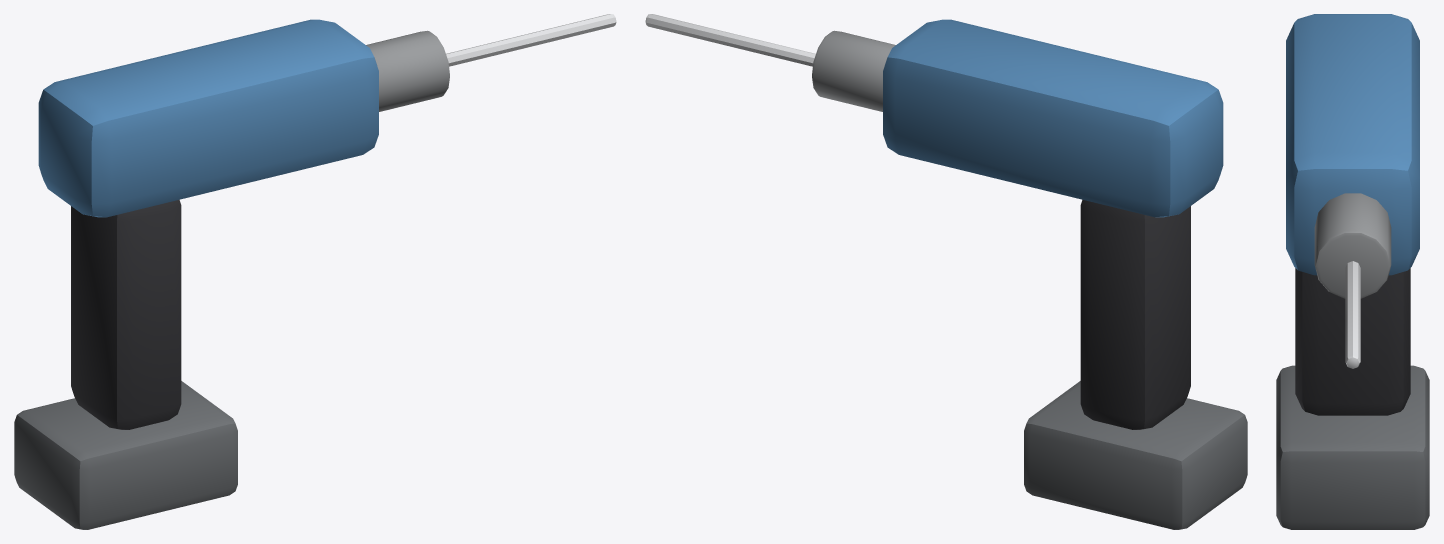
The model's file is EQP-PEQ-004_lod1.glb.
The picture shows the model from 3 angles, left to right: view 1: azimuth 30°, elevation 25°; view 2: azimuth 150°, elevation 25°; view 3: azimuth 270°, elevation 25°; orthographic projection. The views are drawn at different scales.
Parts seen in each view (by area): view 1: EQP-PEQ-004_corpo, EQP-PEQ-004_empunhadura, EQP-PEQ-004_bateria, EQP-PEQ-004_mandril, EQP-PEQ-004_broca; view 2: EQP-PEQ-004_corpo, EQP-PEQ-004_empunhadura, EQP-PEQ-004_bateria, EQP-PEQ-004_mandril, EQP-PEQ-004_broca; view 3: EQP-PEQ-004_corpo, EQP-PEQ-004_bateria, EQP-PEQ-004_empunhadura, EQP-PEQ-004_mandril, EQP-PEQ-004_broca.
Part boxes in pixels (bbox=[...]): EQP-PEQ-004_corpo: bbox=[38, 19, 378, 217]; EQP-PEQ-004_empunhadura: bbox=[71, 199, 181, 429]; EQP-PEQ-004_bateria: bbox=[14, 381, 237, 529]; EQP-PEQ-004_mandril: bbox=[366, 30, 449, 111]; EQP-PEQ-004_broca: bbox=[446, 14, 616, 66]; EQP-PEQ-004_corpo: bbox=[883, 19, 1223, 217]; EQP-PEQ-004_empunhadura: bbox=[1080, 199, 1190, 429]; EQP-PEQ-004_bateria: bbox=[1024, 381, 1247, 529]; EQP-PEQ-004_mandril: bbox=[812, 30, 895, 111]; EQP-PEQ-004_broca: bbox=[645, 14, 815, 66]; EQP-PEQ-004_corpo: bbox=[1286, 14, 1419, 275]; EQP-PEQ-004_bateria: bbox=[1276, 365, 1429, 529]; EQP-PEQ-004_empunhadura: bbox=[1295, 268, 1410, 415]; EQP-PEQ-004_mandril: bbox=[1314, 193, 1391, 298]; EQP-PEQ-004_broca: bbox=[1345, 261, 1360, 368].
Bounding box in the file's own units: 0.38 × 0.26 × 0.08.
